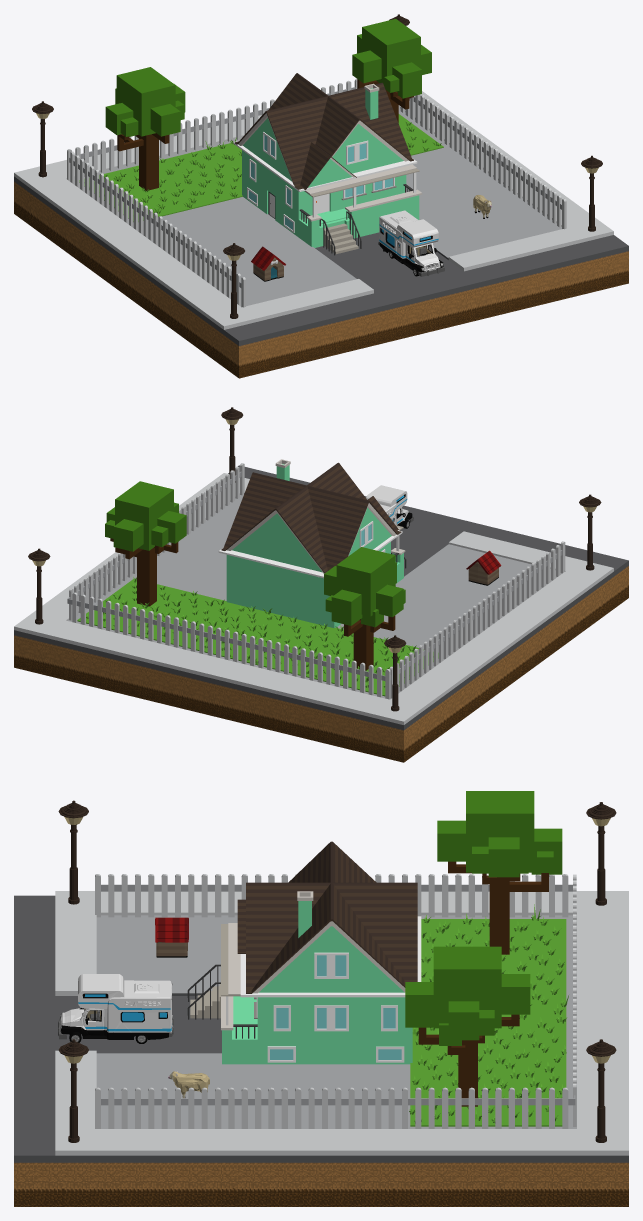
3 renders of one model, top to bottom at view 1: azimuth 30°, elevation 25°; view 2: azimuth 150°, elevation 25°; view 3: azimuth 270°, elevation 25°, orthographic. The views are drawn at different scales.
Parts seen in each view (by area): view 1: Cube.004, Cube.352, VEHICLES_CAMPER, OBJRANDOM_DOGHOUSE; view 2: Cube.004, Cube.352, VEHICLES_CAMPER, OBJRANDOM_DOGHOUSE; view 3: Cube.004, Cube.352, VEHICLES_CAMPER, OBJRANDOM_DOGHOUSE, ANIMAL_OVEJA.
Part boxes in pixels (left/top/right/bottom): Cube.004: left=14, top=14, right=628, bottom=378; Cube.352: left=233, top=73, right=422, bottom=255; VEHICLES_CAMPER: left=378, top=210, right=444, bottom=276; OBJRANDOM_DOGHOUSE: left=251, top=246, right=285, bottom=281; Cube.004: left=14, top=407, right=628, bottom=762; Cube.352: left=218, top=459, right=406, bottom=627; VEHICLES_CAMPER: left=366, top=485, right=413, bottom=528; OBJRANDOM_DOGHOUSE: left=466, top=550, right=501, bottom=585; Cube.004: left=14, top=791, right=628, bottom=1206; Cube.352: left=187, top=841, right=421, bottom=1064; VEHICLES_CAMPER: left=58, top=974, right=173, bottom=1043; OBJRANDOM_DOGHOUSE: left=155, top=917, right=188, bottom=957; ANIMAL_OVEJA: left=168, top=1071, right=209, bottom=1098.
Bounding box in the file's own units: 4000 × 1702 × 4000.
Materials: 39 (3 with a texture image).
